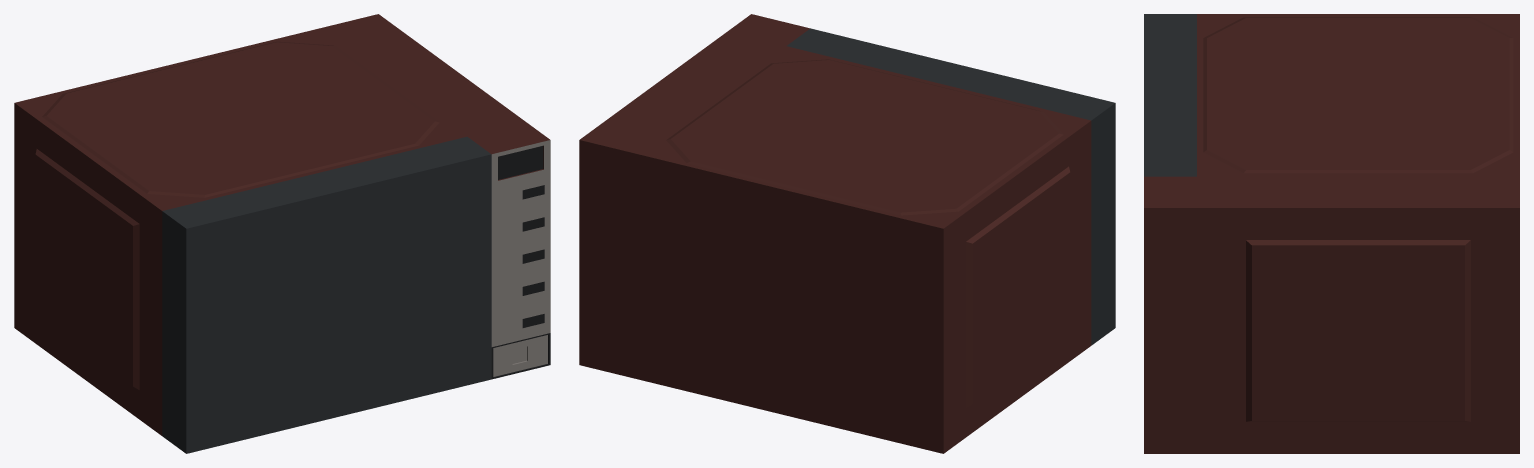
Rendered from microwavemodern_01_C.gltf.
The picture shows the model from 3 angles, left to right: view 1: azimuth 30°, elevation 25°; view 2: azimuth 150°, elevation 25°; view 3: azimuth 270°, elevation 25°; orthographic projection. The views are drawn at different scales.
Visible parts, largest first — view 1: microwavemodern_01_C, Doorformicrowavemodern_01_C, Buttonformicrowavemodern_01_C; view 2: microwavemodern_01_C, Doorformicrowavemodern_01_C; view 3: microwavemodern_01_C, Doorformicrowavemodern_01_C.
Part boxes in pixels (bbox=[...]): microwavemodern_01_C: bbox=[14, 14, 550, 435]; Doorformicrowavemodern_01_C: bbox=[162, 136, 491, 453]; Buttonformicrowavemodern_01_C: bbox=[493, 335, 547, 376]; microwavemodern_01_C: bbox=[579, 14, 1091, 453]; Doorformicrowavemodern_01_C: bbox=[787, 28, 1115, 345]; microwavemodern_01_C: bbox=[1144, 14, 1519, 453]; Doorformicrowavemodern_01_C: bbox=[1144, 14, 1196, 176].
Size of the model in its own units: 0.4497 by 0.2613 by 0.36.
1 material, 1 textured.
